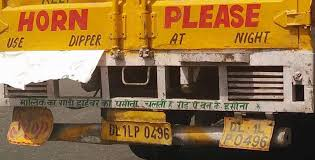numberplate: (99, 119, 173, 146)
